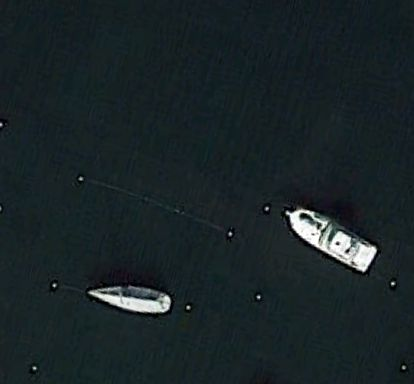boat: (283, 205, 378, 273), (86, 283, 173, 317)
